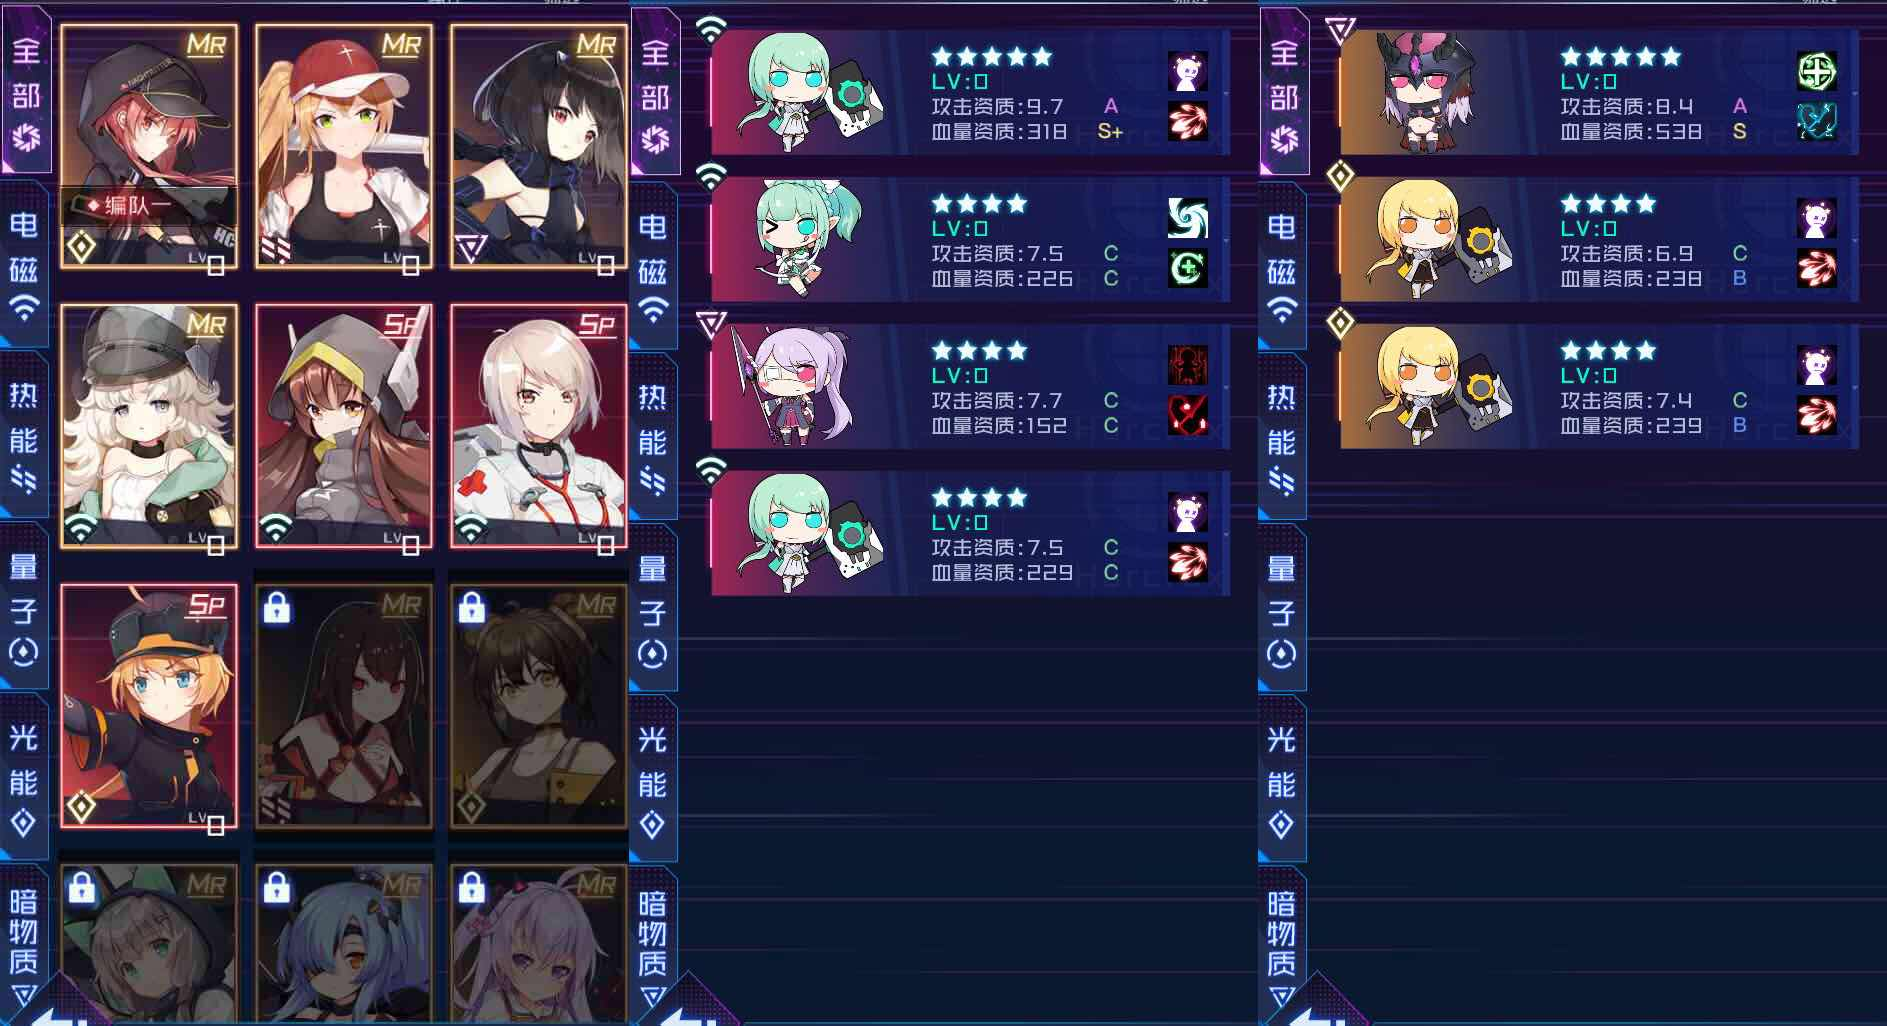sp皮卡: (53, 572, 244, 753)
